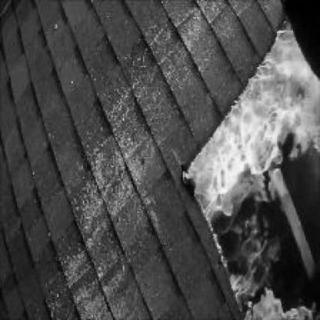Fire: (200, 28, 312, 208), (222, 221, 312, 317)
